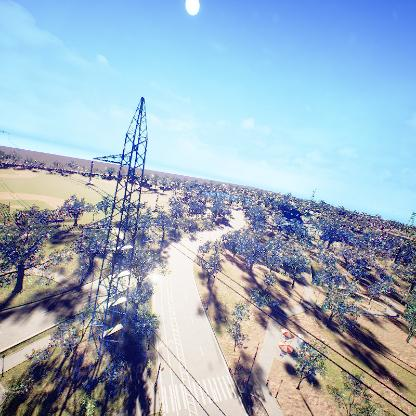tower: (81, 93, 168, 357)
